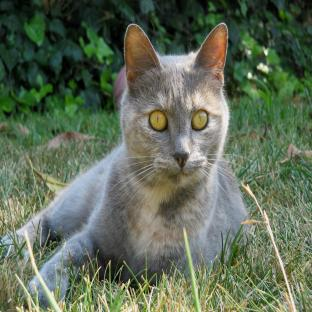Animal: (0, 23, 247, 299)
